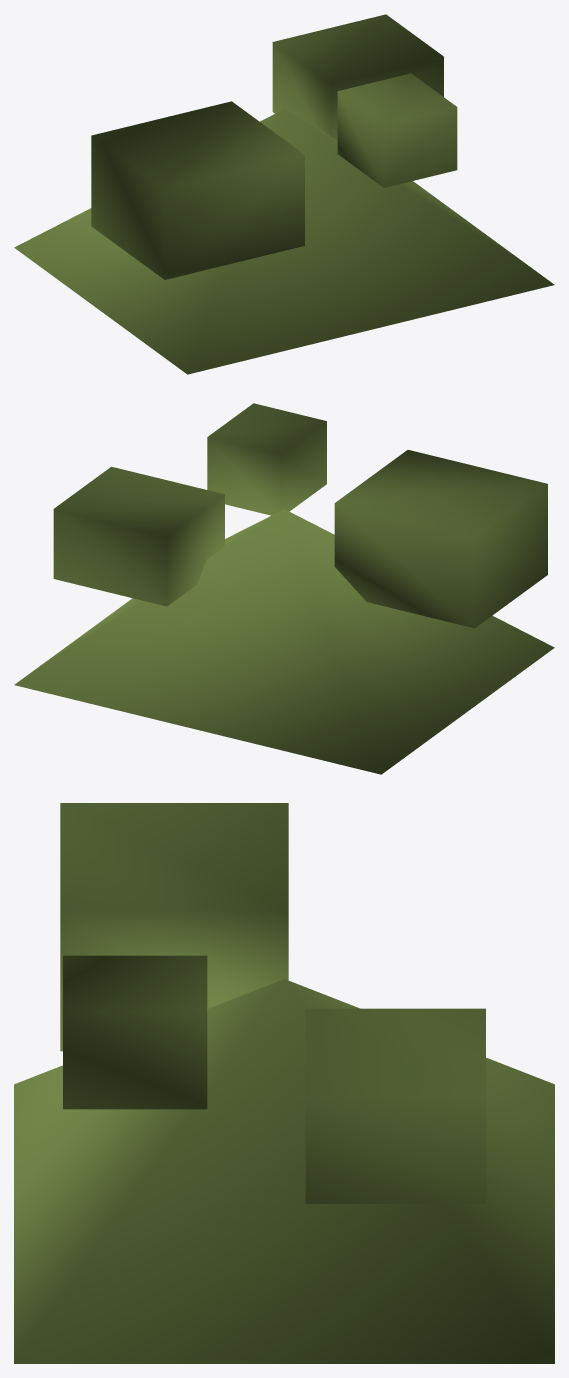
Rendered from ps2_jrpg_battlefield_rubble_pile.obj.
The picture shows the model from 3 angles, top to bottom: view 1: azimuth 30°, elevation 25°; view 2: azimuth 150°, elevation 25°; view 3: azimuth 270°, elevation 25°; orthographic projection. The views are drawn at different scales.
Bounding box in the file's own units: 1.12 × 0.5328 × 0.9.
